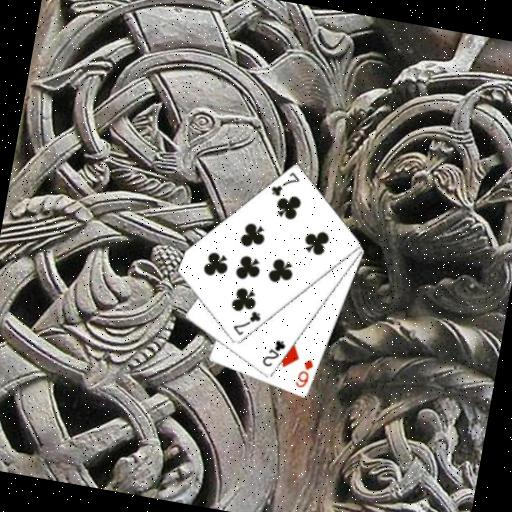2C: (258, 334, 288, 370)
6D: (292, 355, 316, 391)
7C: (228, 304, 264, 340), (266, 165, 302, 201)
